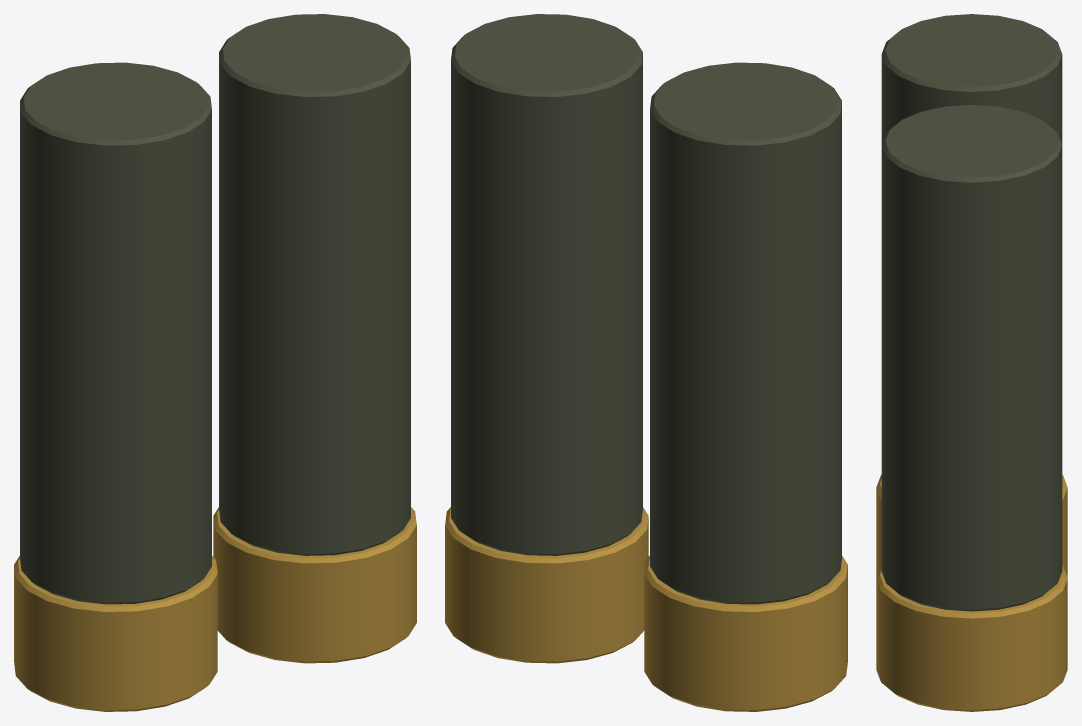
The model's file is mod_reaper_shells.glb.
3 views of the same model, side by side, from view 1: azimuth 30°, elevation 25°; view 2: azimuth 150°, elevation 25°; view 3: azimuth 270°, elevation 25° (orthographic). The views are drawn at different scales.
Visible parts, largest first — view 1: ShellsLShell, ShellsRShell; view 2: ShellsLShell, ShellsRShell; view 3: ShellsRShell, ShellsLShell.
Part boxes in pixels (x1,y1,x2,y2): ShellsLShell: (14,62,217,711); ShellsRShell: (213,14,416,663); ShellsLShell: (644,62,847,711); ShellsRShell: (445,14,648,663); ShellsRShell: (876,104,1067,711); ShellsLShell: (876,14,1067,577).
Size of the model in its own units: 0.045 by 0.065 by 0.0212.
